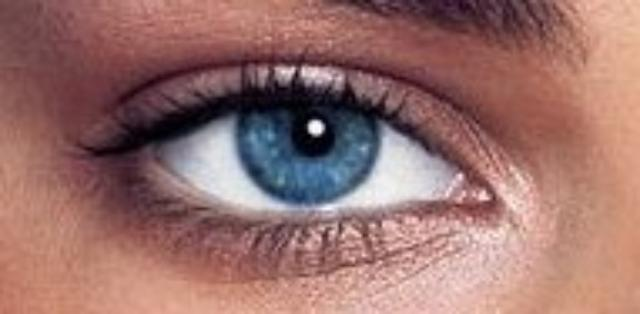eye: (231, 91, 383, 207)
